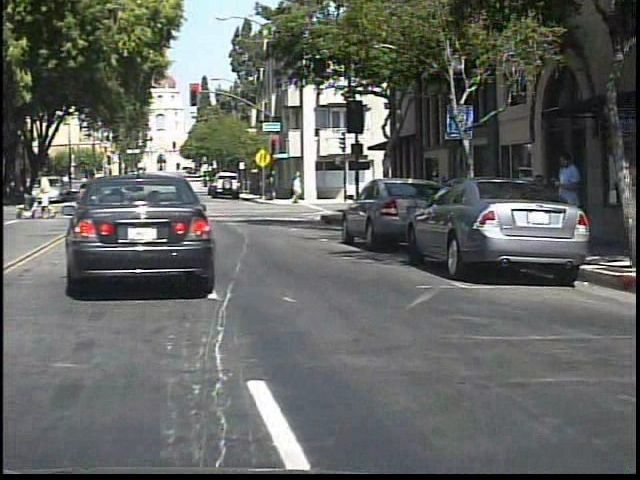person: (549, 145, 584, 265), (44, 172, 66, 221), (2, 175, 18, 210), (42, 174, 43, 207)
